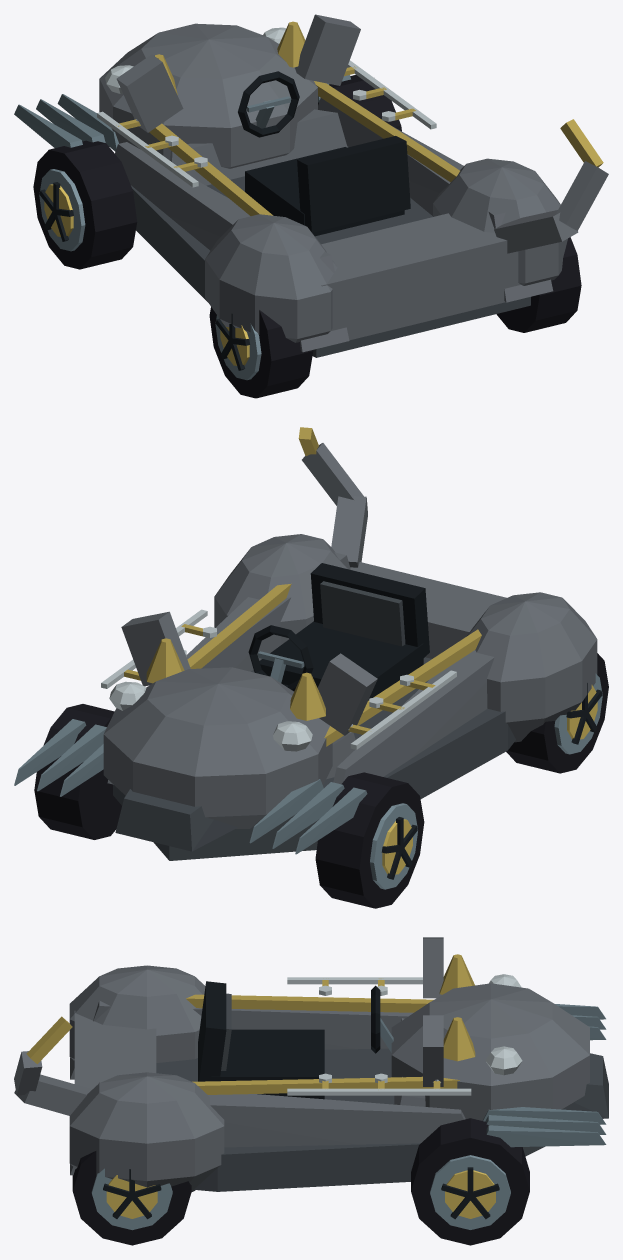
File: kart.glb
3 renders of one model, top to bottom at view 1: azimuth 30°, elevation 25°; view 2: azimuth 150°, elevation 25°; view 3: azimuth 270°, elevation 25°, orthographic. The views are drawn at different scales.
Visible parts, largest first — view 1: identity-beast-beast-sculpted-prow-and-haunches, identity-beast-driver-cockpit, wheel-front-left, wheel-rear-left, identity-beast-motif-tail, identity-beast-motif-claws, identity-beast-motif-circuit, wheel-rear-right, wheel-front-right; view 2: identity-beast-beast-sculpted-prow-and-haunches, identity-beast-driver-cockpit, wheel-front-left, identity-beast-motif-claws, wheel-front-right, wheel-rear-left, identity-beast-motif-tail, identity-beast-motif-circuit; view 3: identity-beast-beast-sculpted-prow-and-haunches, wheel-front-right, identity-beast-driver-cockpit, wheel-rear-right, identity-beast-motif-claws, identity-beast-motif-tail, identity-beast-motif-circuit.
Boxes of the visible parts, bbox=[...] form: identity-beast-beast-sculpted-prow-and-haunches: bbox=[99, 14, 567, 357]; identity-beast-driver-cockpit: bbox=[238, 71, 410, 236]; wheel-front-left: bbox=[33, 140, 137, 269]; wheel-rear-left: bbox=[209, 307, 313, 398]; identity-beast-motif-tail: bbox=[494, 119, 608, 253]; identity-beast-motif-claws: bbox=[14, 75, 350, 151]; identity-beast-motif-circuit: bbox=[97, 60, 436, 187]; wheel-rear-right: bbox=[496, 237, 581, 332]; wheel-front-right: bbox=[318, 75, 401, 131]; identity-beast-beast-sculpted-prow-and-haunches: bbox=[103, 534, 597, 860]; identity-beast-driver-cockpit: bbox=[248, 563, 429, 700]; wheel-front-left: bbox=[315, 772, 424, 908]; identity-beast-motif-claws: bbox=[14, 719, 367, 854]; wheel-front-right: bbox=[34, 704, 121, 839]; wheel-rear-left: bbox=[506, 653, 608, 773]; identity-beast-motif-tail: bbox=[298, 427, 367, 567]; identity-beast-motif-circuit: bbox=[101, 609, 456, 749]; identity-beast-beast-sculpted-prow-and-haunches: bbox=[69, 937, 608, 1191]; wheel-front-right: bbox=[411, 1118, 529, 1245]; identity-beast-driver-cockpit: bbox=[198, 981, 393, 1099]; wheel-rear-right: bbox=[72, 1151, 191, 1245]; identity-beast-motif-claws: bbox=[482, 1004, 606, 1147]; identity-beast-motif-tail: bbox=[14, 1016, 91, 1115]; identity-beast-motif-circuit: bbox=[287, 977, 471, 1095].
Size of the model in its own units: 2.01 by 1.3 by 3.2.
